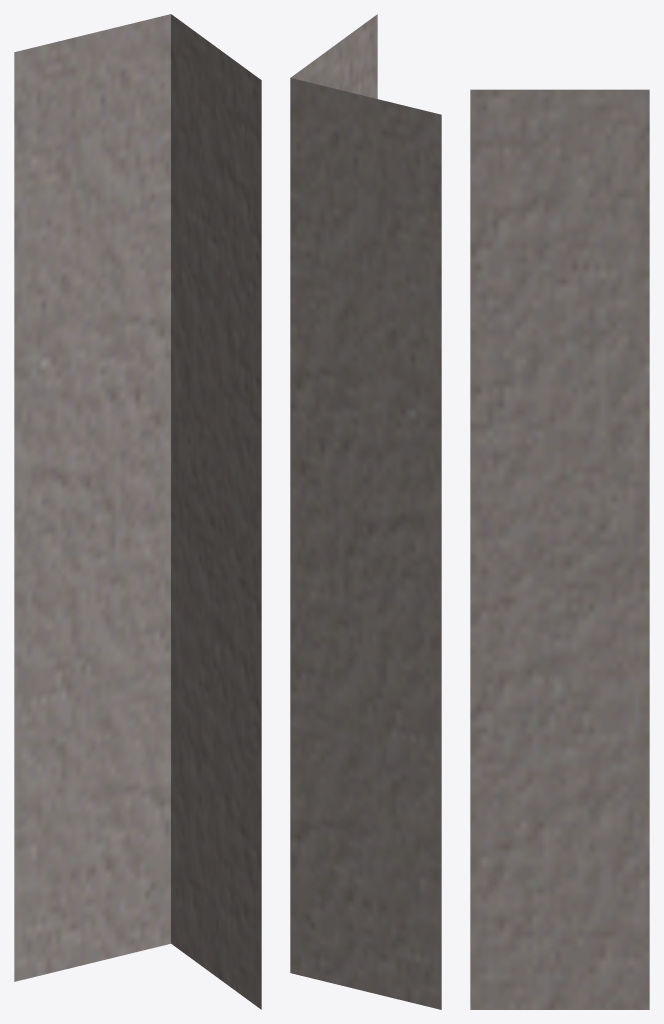
The model's file is W_A1_Eckverschluß [Stein2]_2413.glb.
The picture shows the model from 3 angles, left to right: view 1: azimuth 30°, elevation 25°; view 2: azimuth 150°, elevation 25°; view 3: azimuth 270°, elevation 25°; orthographic projection. The views are drawn at different scales.
Visible parts, largest first — view 1: pPlaneShape7; view 2: pPlaneShape7; view 3: pPlaneShape7.
Part boxes in pixels (bbox=[...]): pPlaneShape7: bbox=[14, 14, 261, 1009]; pPlaneShape7: bbox=[290, 14, 441, 1009]; pPlaneShape7: bbox=[470, 89, 649, 1009].
Bounding box in the file's own units: 0.0615 × 0.3486 × 0.0615.
1 material, 1 textured.
